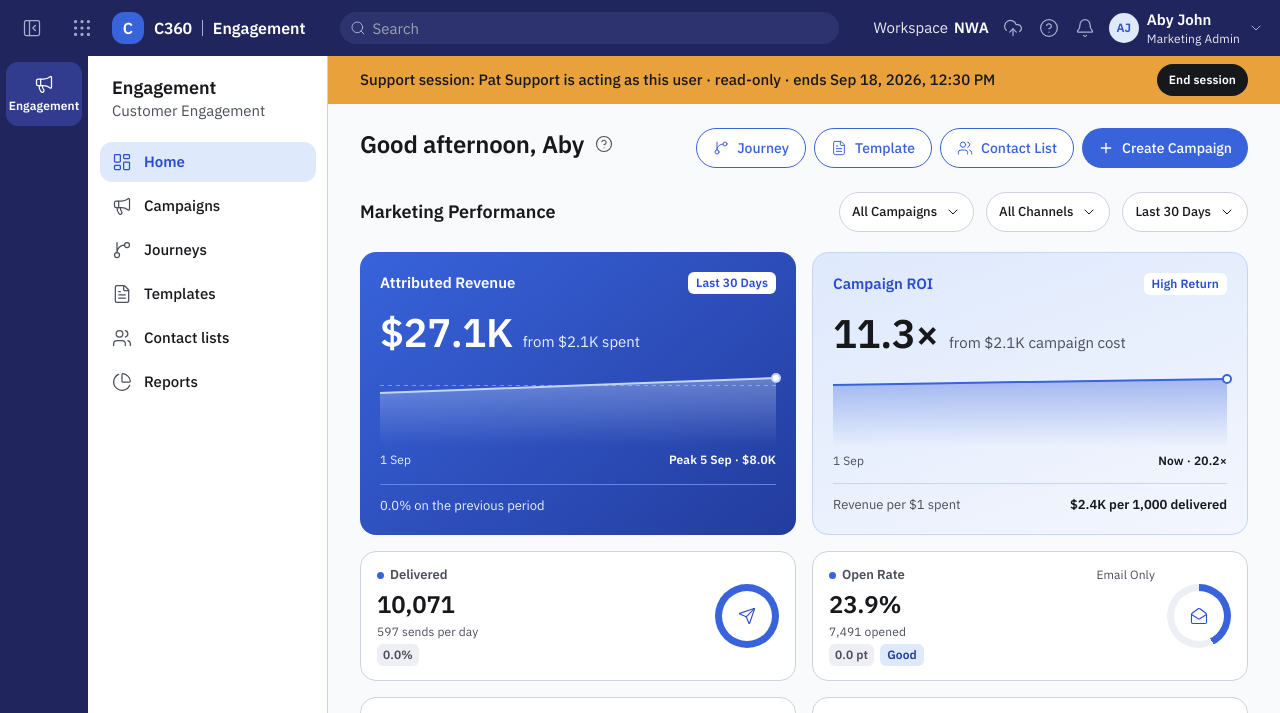
Test: a support session forgets any earlier refresh token, shows who is acting and why it is limited, hides Settings, and ends on request
Click the button "End session". click: (1202, 80)
box: [1157,64,1248,96]
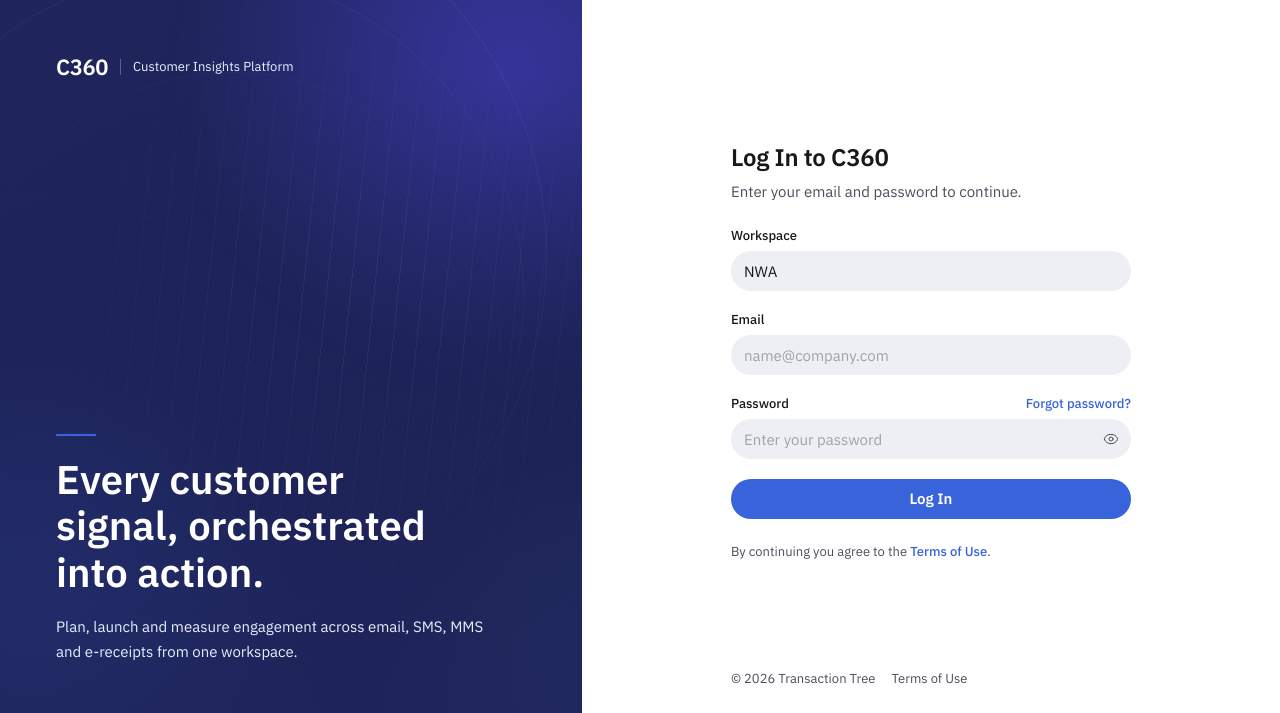
Now the password field labelled "Password" is shown, box [731,419,1131,459]
